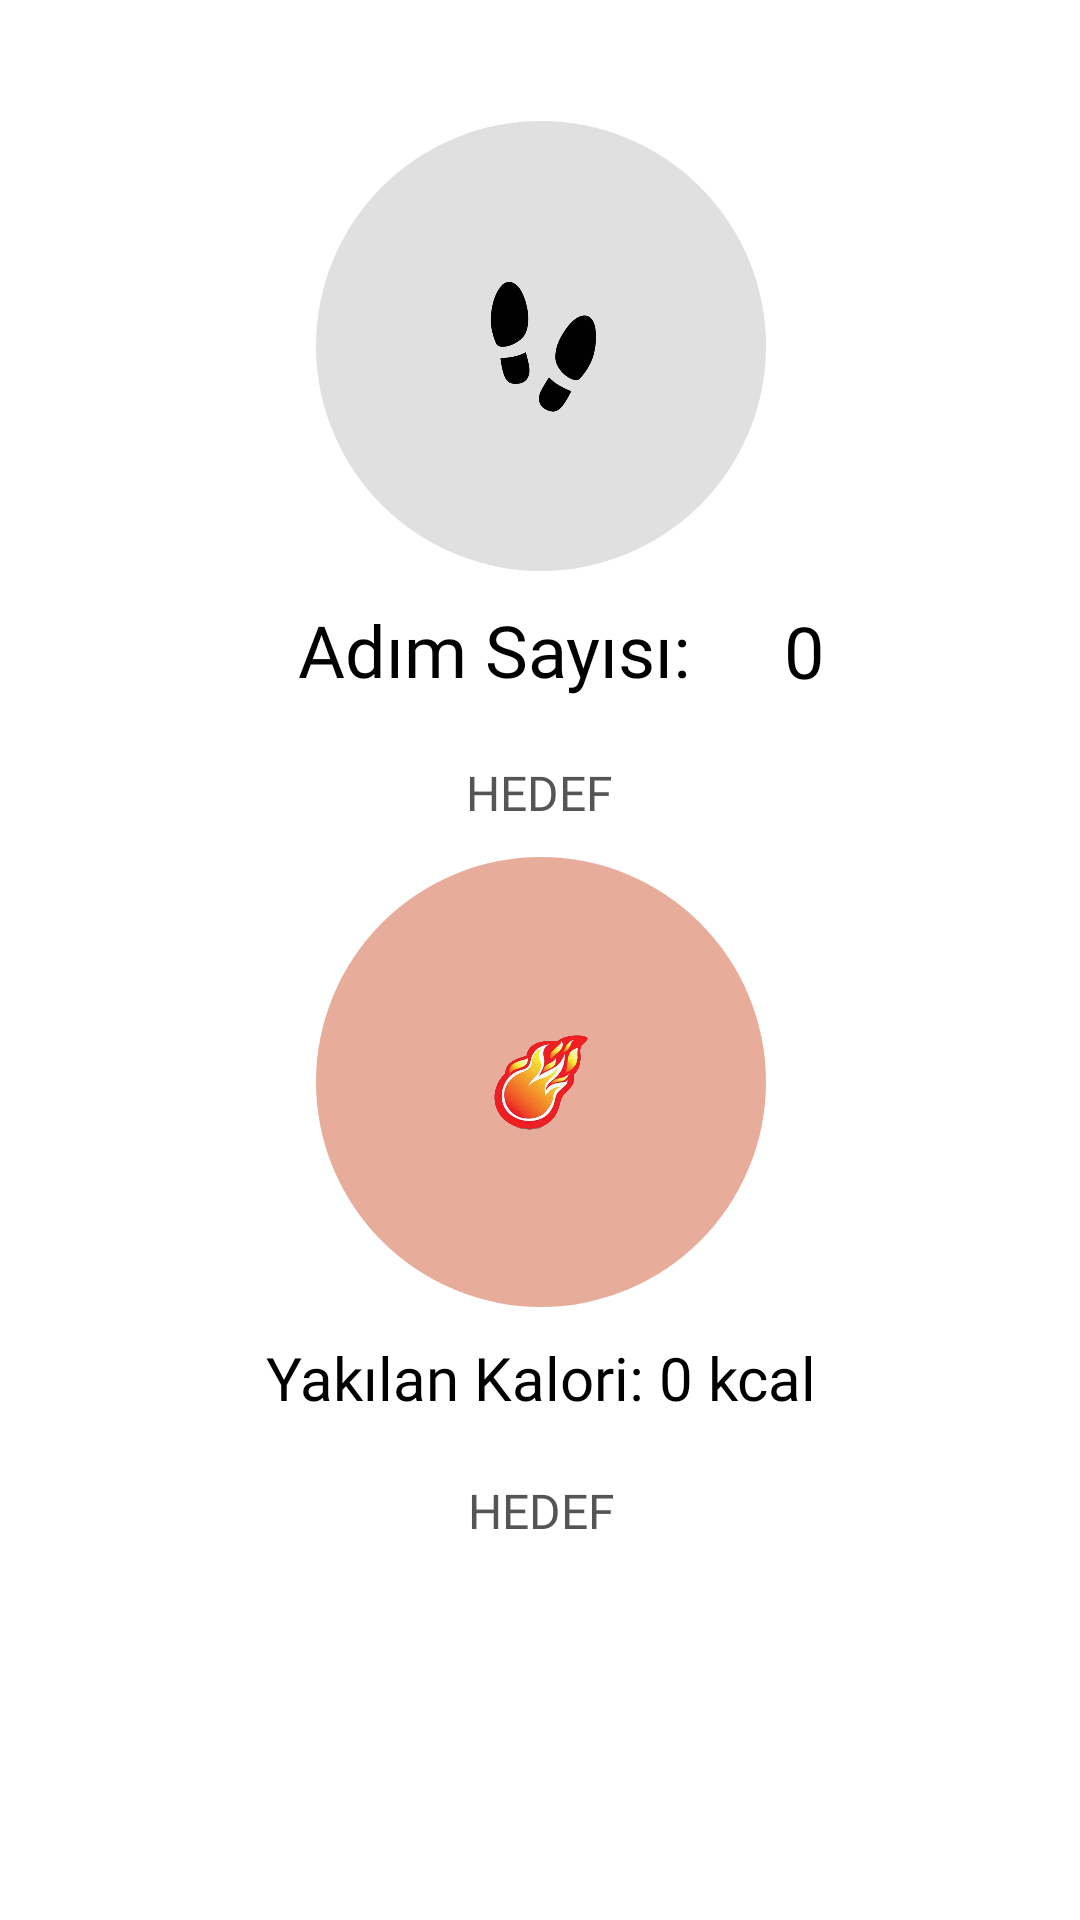

Where icons sit on this 1080x1920 app screen, as (x1, y1, x2, y2):
adim: (491, 282, 596, 412)
fire: (494, 1035, 588, 1130)
